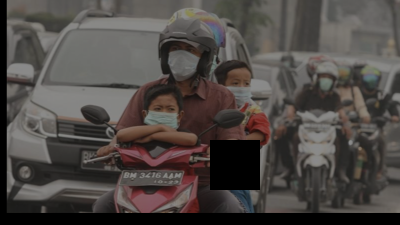with_mask: (165, 42, 200, 81), (143, 101, 178, 129), (225, 76, 251, 107), (317, 73, 333, 92)
